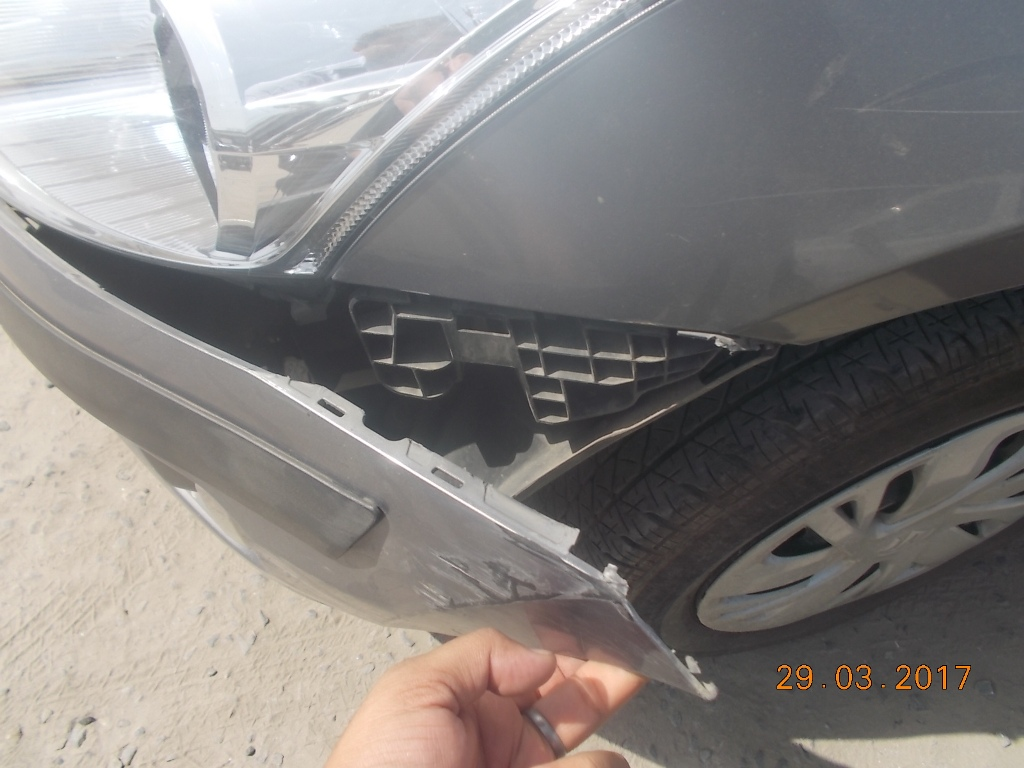Dislocation: (249, 236, 785, 690)
